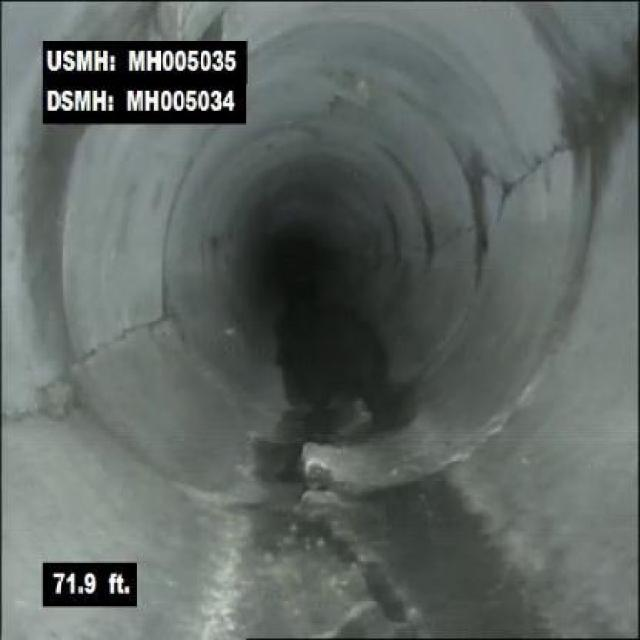Buckling: (254, 426, 437, 639)
Crack: (0, 356, 72, 461)
